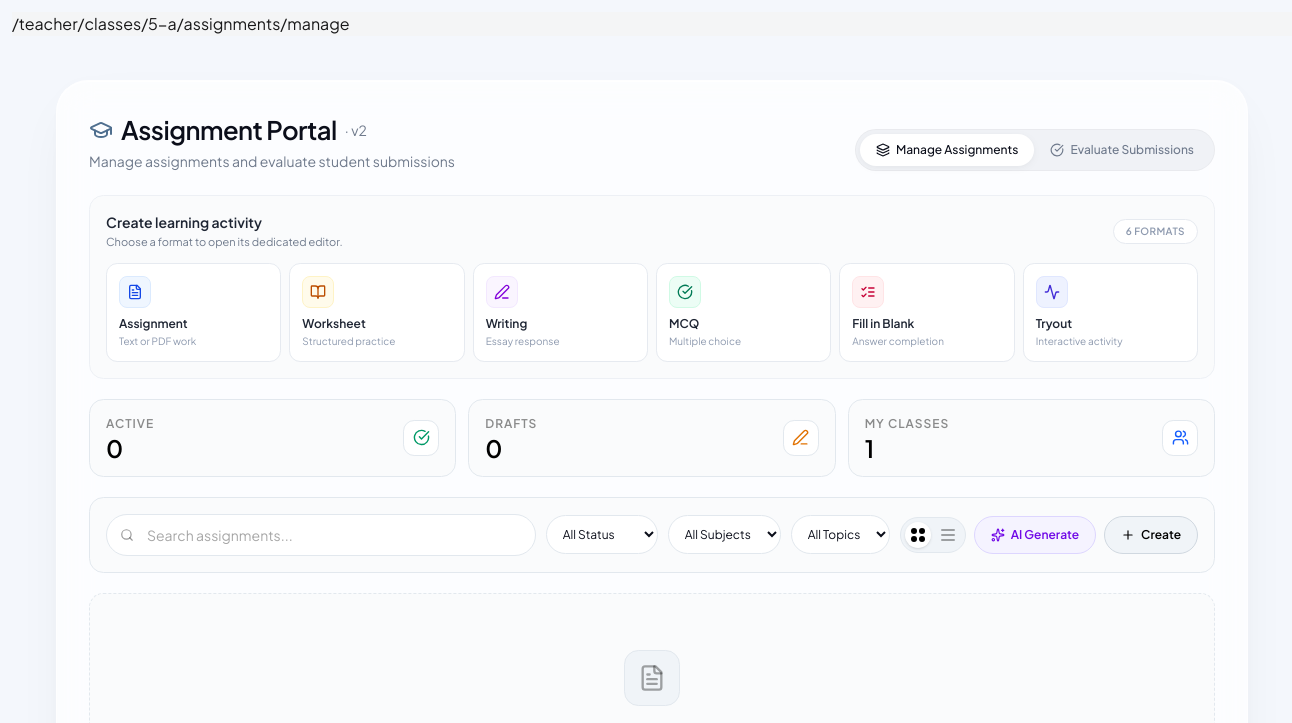
Test: AssignmentPortal workflow › opens the MCQ editor inside the manage page
Click the button "MCQ Multiple choice" at (744, 312), box x1=656 y1=263 x2=831 y2=362
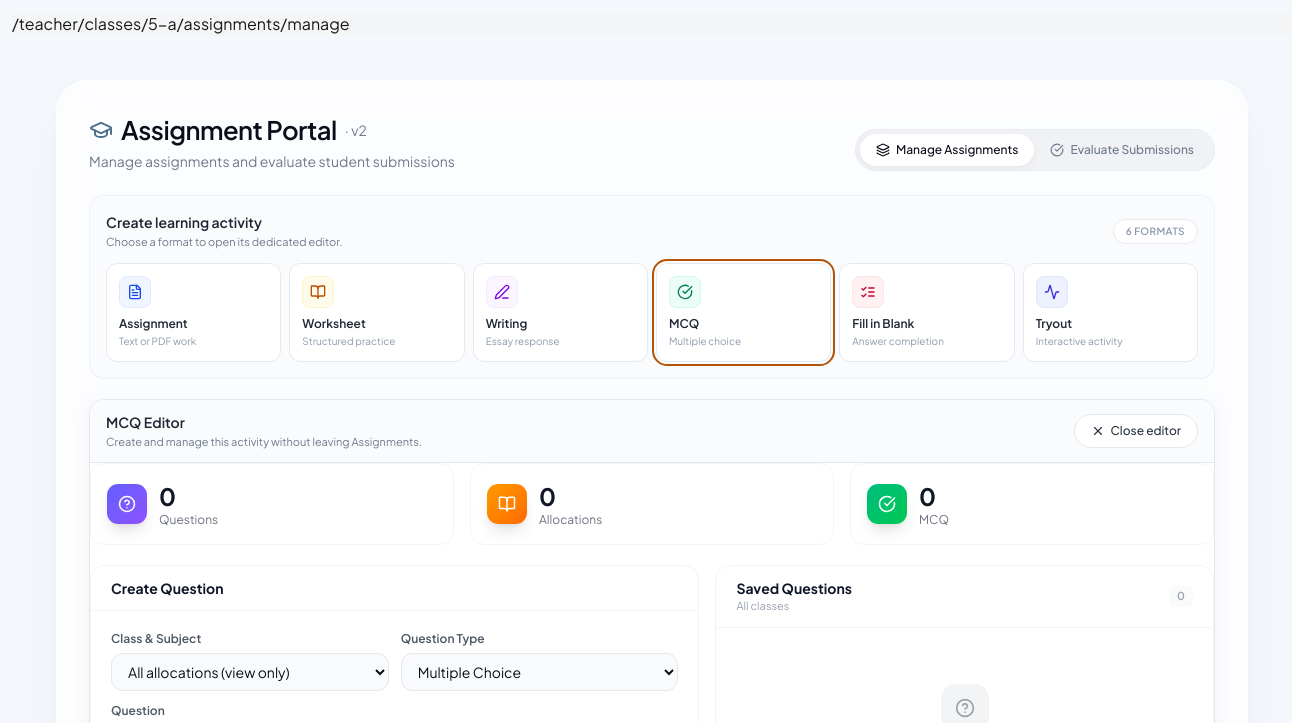
Expected: the text with test id "current-path" reads "/teacher/classes/5-a/assignments/manage", x1=12 y1=13 x2=350 y2=34
Expected: the text "MCQ Editor" is shown, x1=106 y1=413 x2=185 y2=431
Expected: the button "Close editor" is shown, x1=1074 y1=414 x2=1198 y2=448
